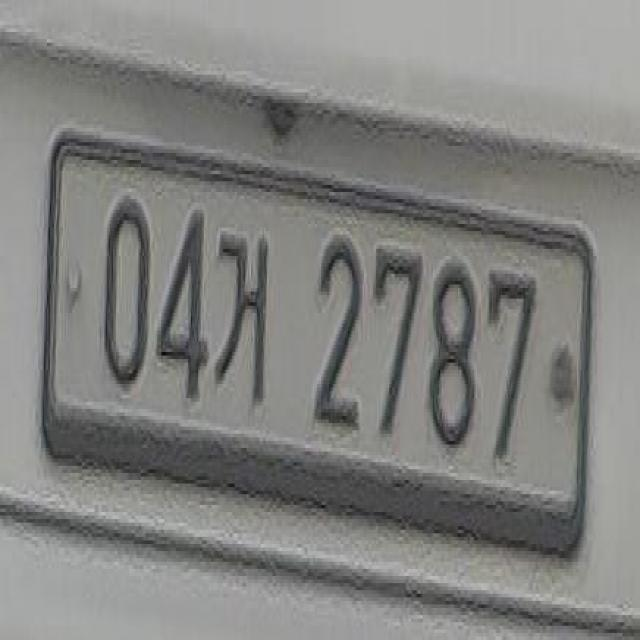illegal_plate: (40, 136, 598, 582)
